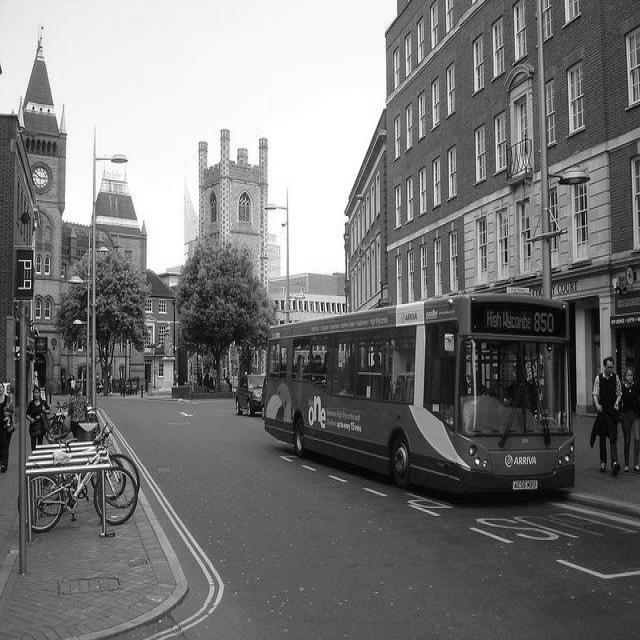vehicle: (260, 293, 577, 496), (235, 375, 265, 417)
